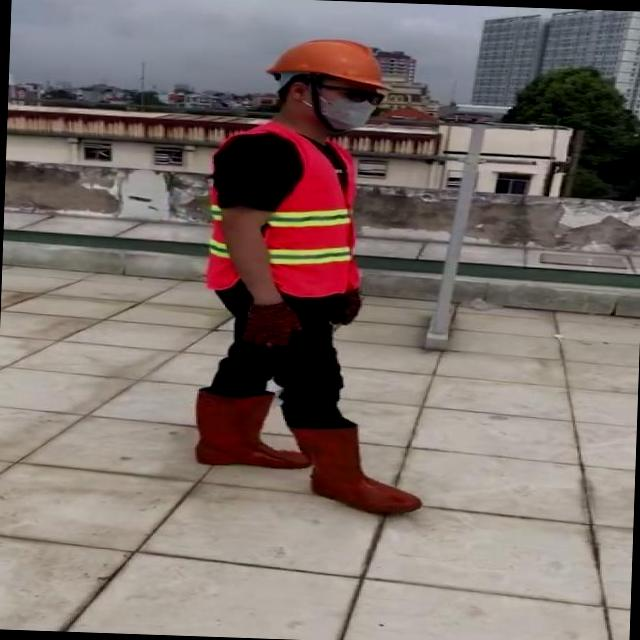boots: (288, 421, 426, 515), (194, 390, 298, 470)
helmet: (266, 36, 388, 88)
vest: (202, 124, 364, 296)
